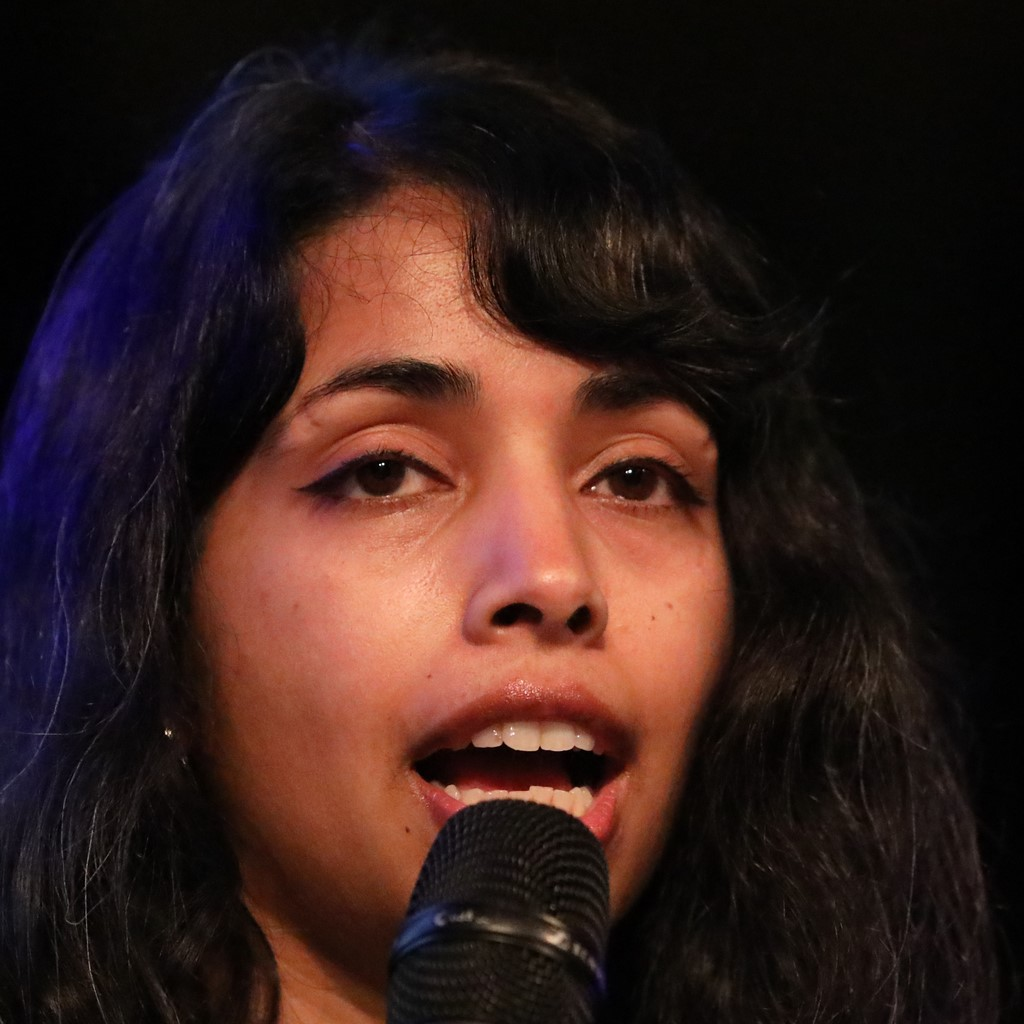sin_mascara: (201, 155, 730, 964)
